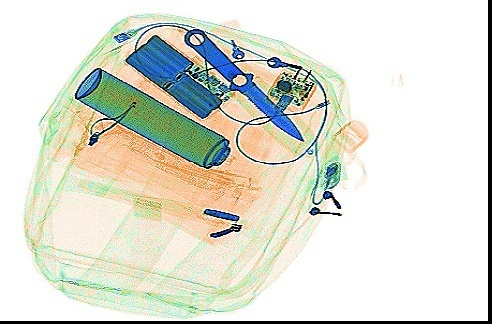knife: (183, 27, 319, 159)
powerbank: (121, 31, 231, 121)
pressure: (73, 63, 232, 172)
